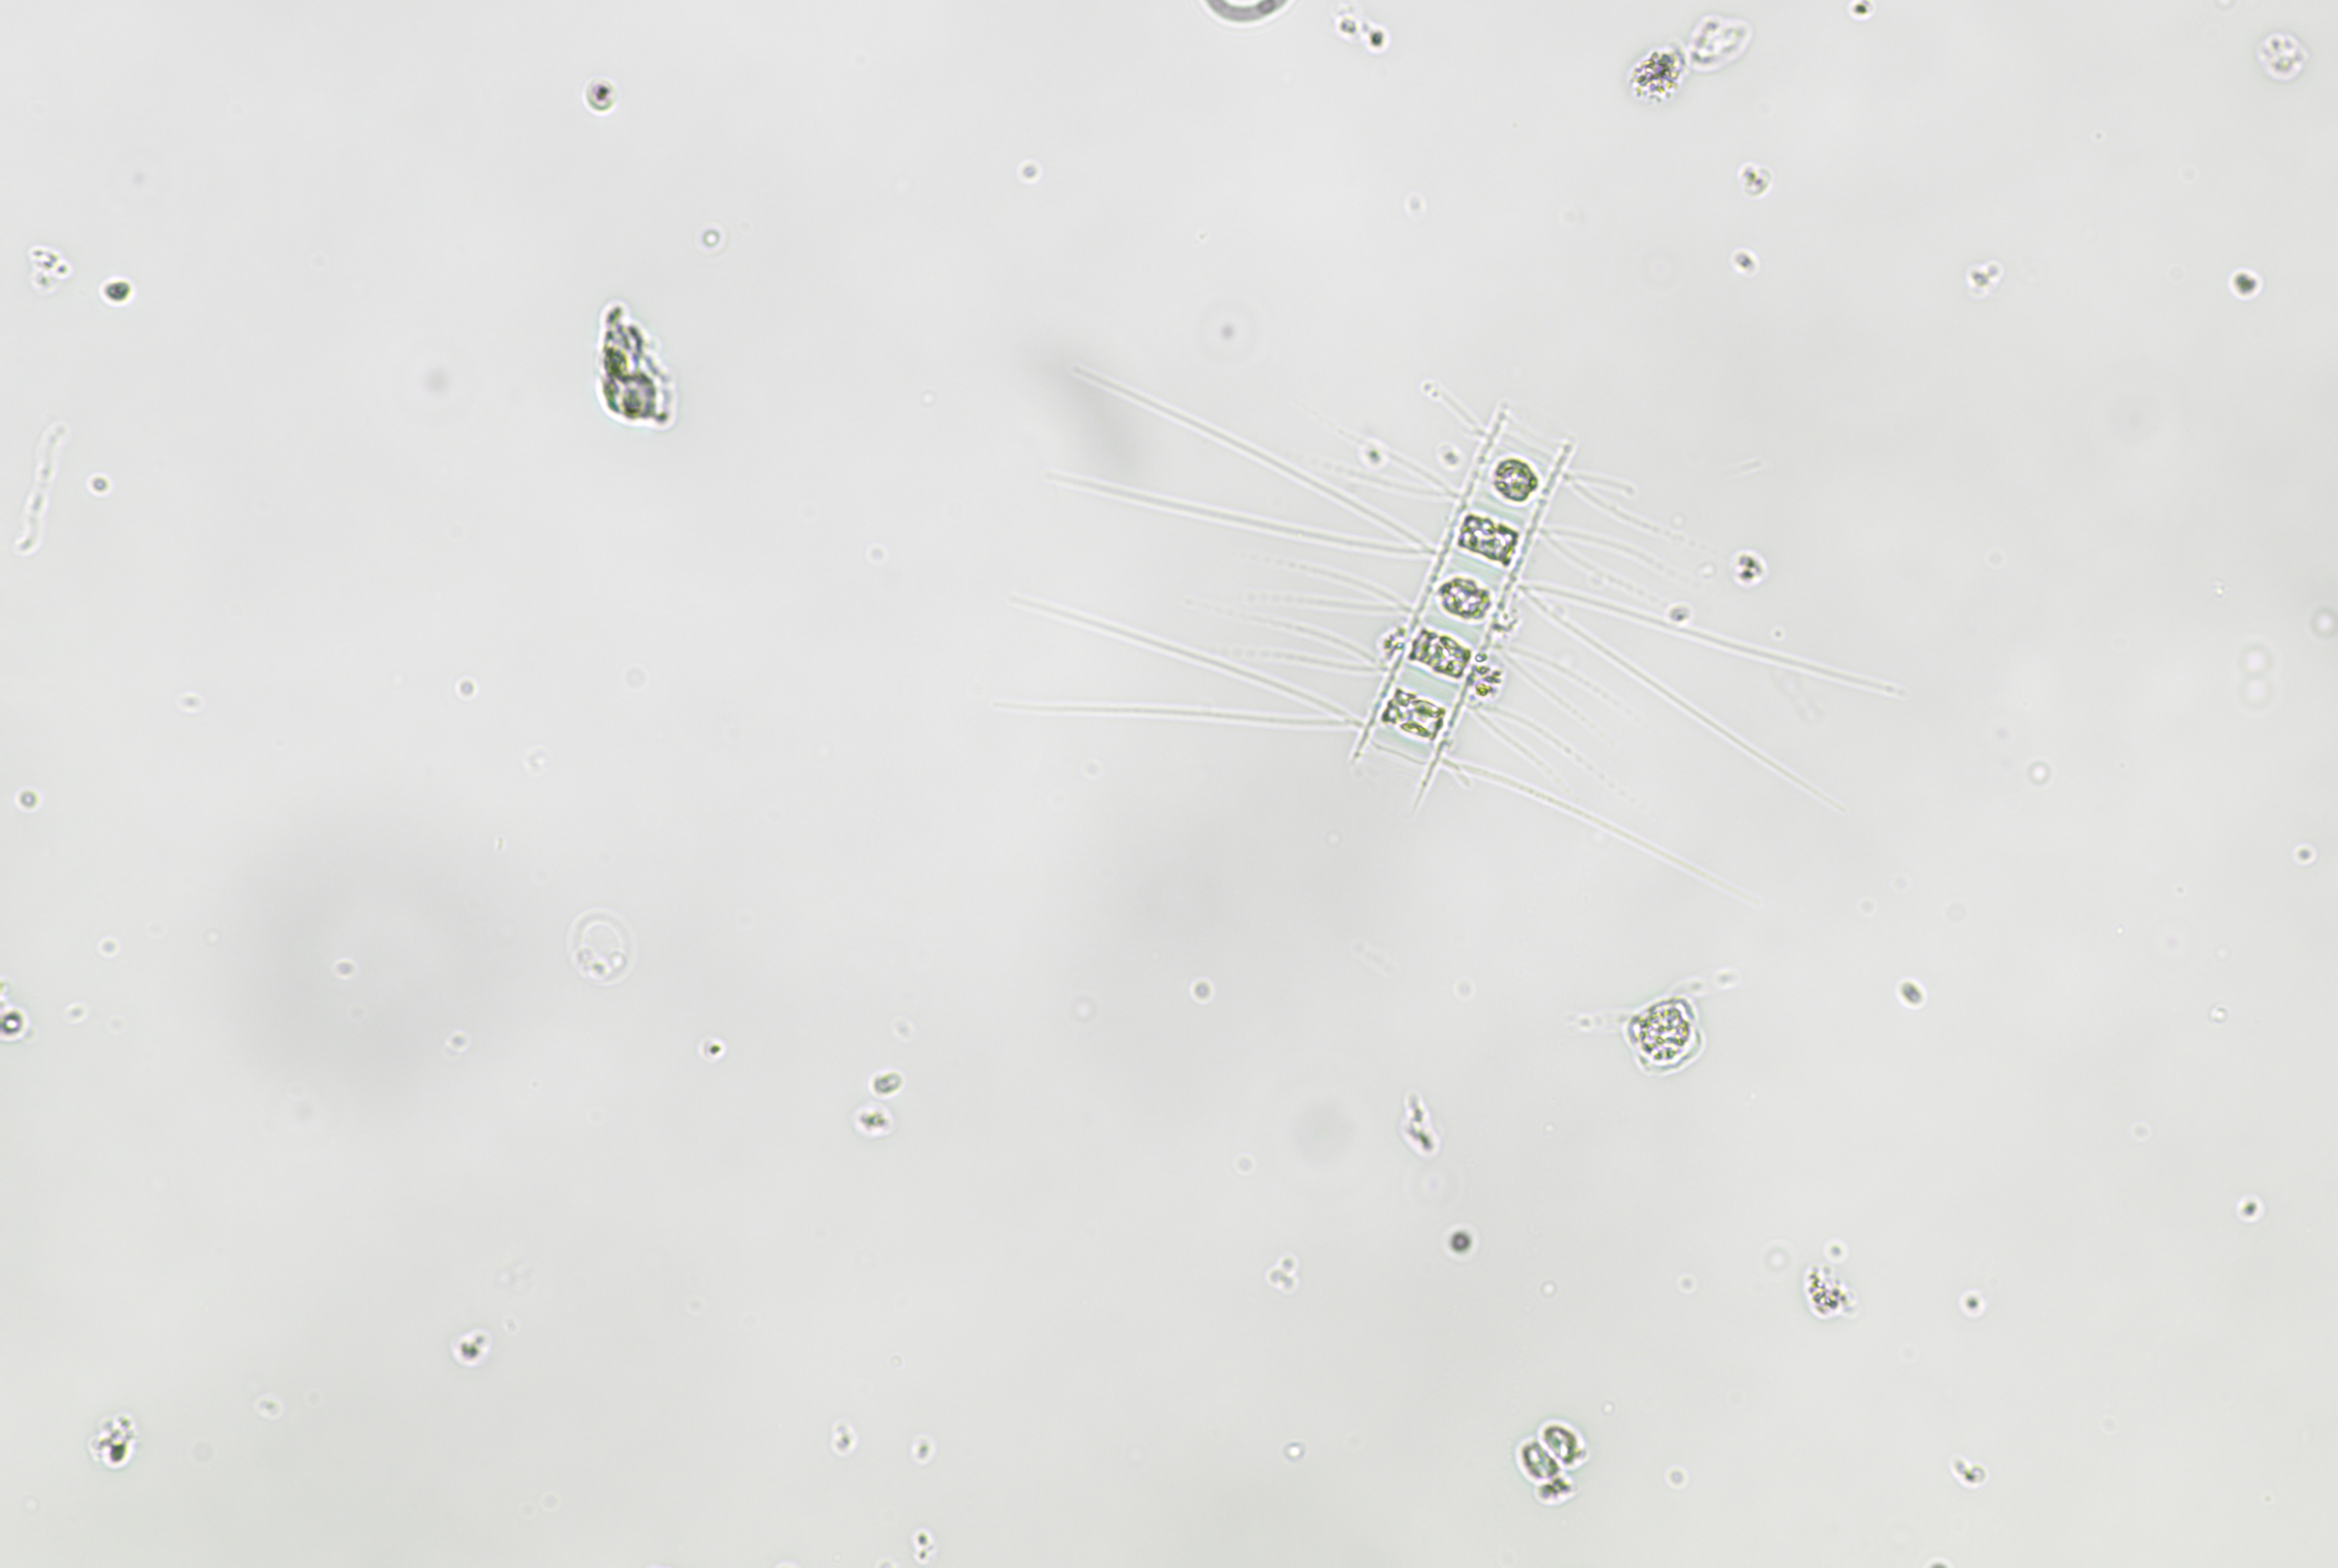chaetoceros: (999, 324, 1930, 912)
